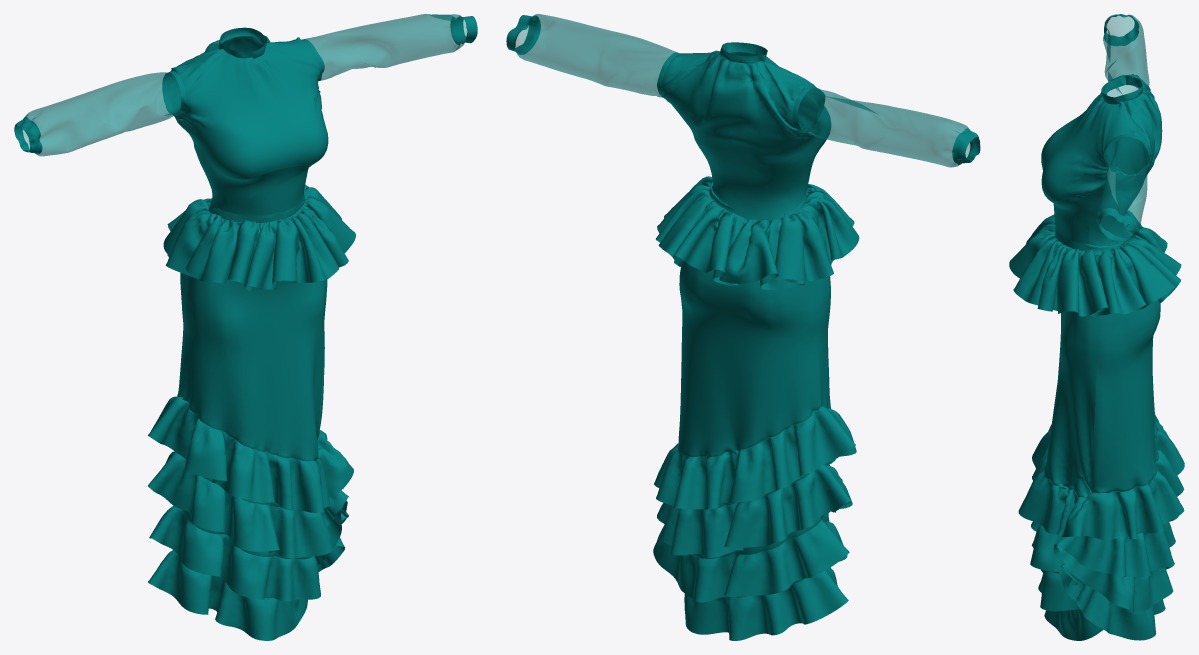
File: G_teal_colored.glb
3 renders of one model, left to right at view 1: azimuth 30°, elevation 25°; view 2: azimuth 150°, elevation 25°; view 3: azimuth 270°, elevation 25°, orthographic. The views are drawn at different scales.
Parts seen in each view (by area): view 1: Garment; view 2: Garment; view 3: Garment.
Part boxes in pixels (x1,y1,x2,y2): Garment: (14,14,477,640); Garment: (506,14,980,640); Garment: (1009,14,1184,640).
Bounding box in the file's own units: 1.15 × 1.41 × 0.4118.
Materials: 1 (1 with a texture image).
